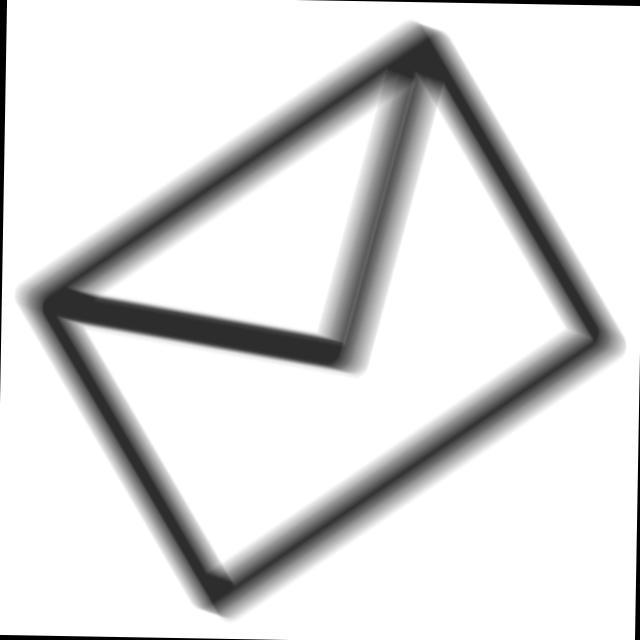letter: (3, 5, 640, 638)
